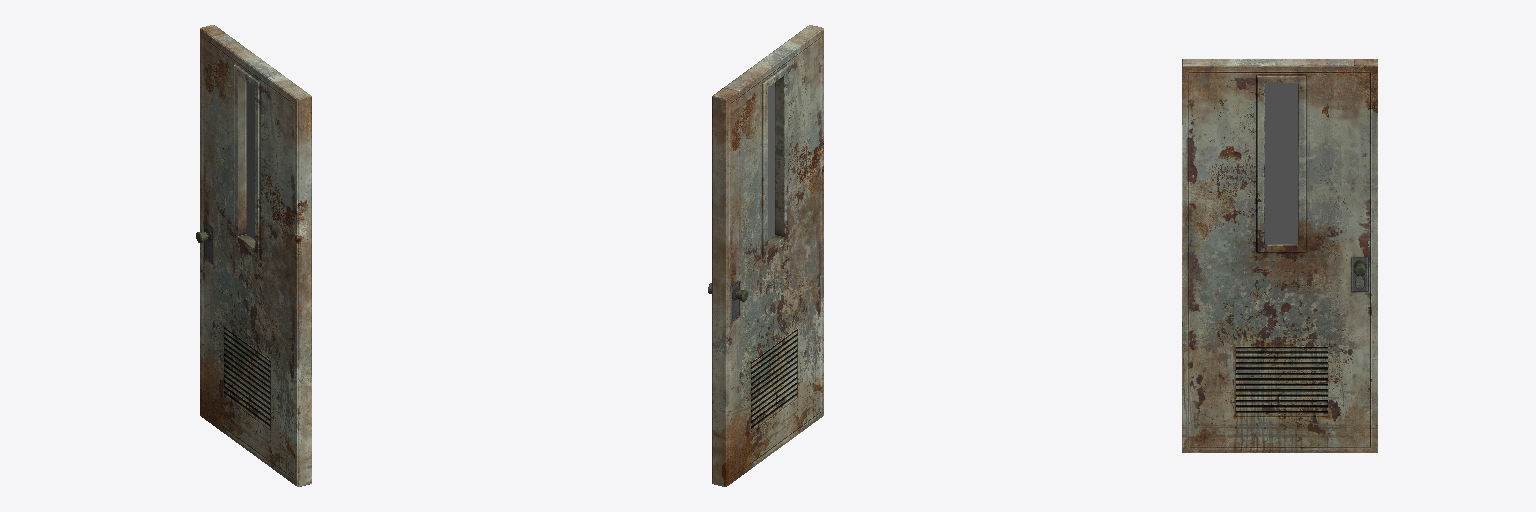
3 renders of one model, left to right at view 1: azimuth 30°, elevation 25°; view 2: azimuth 150°, elevation 25°; view 3: azimuth 270°, elevation 25°, orthographic.
Parts seen in each view (by area): view 1: usa1; view 2: usa1; view 3: usa1.
Part boxes in pixels (bbox=[...]): usa1: bbox=[196, 25, 311, 486]; usa1: bbox=[708, 25, 823, 486]; usa1: bbox=[1182, 59, 1377, 452].
Bounding box in the file's own units: 0.233 × 2.44 × 1.12.
3 materials, 1 textured.